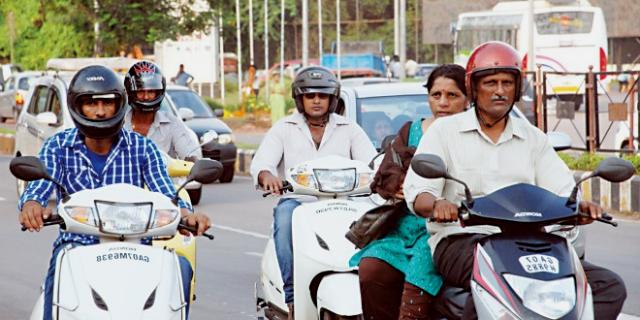licensePlate: (89, 242, 149, 267), (518, 249, 560, 275), (310, 197, 357, 217)
motorcycle: (364, 40, 617, 320), (18, 66, 198, 320), (244, 61, 381, 320)
withHelmet: (469, 43, 523, 116), (289, 69, 343, 122), (132, 62, 170, 111)
withoutHelmet: (426, 67, 462, 114)
